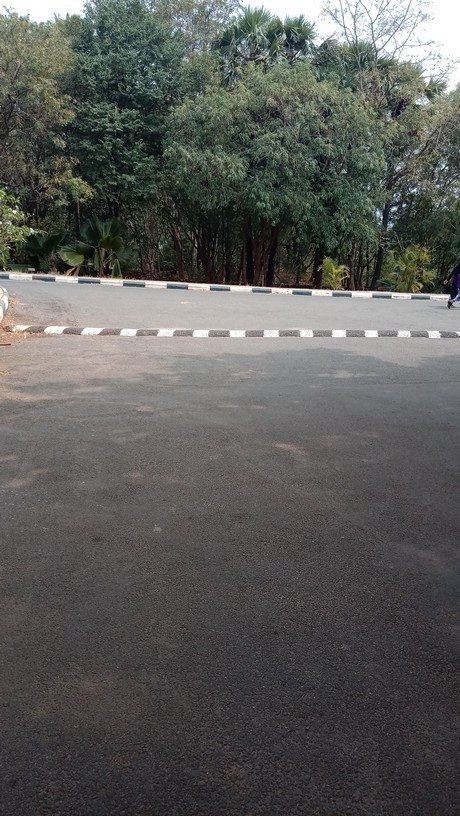bump: (1, 321, 460, 339)
